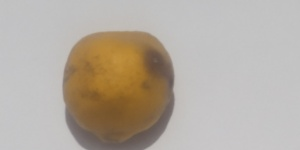BAD: (61, 29, 177, 150)
